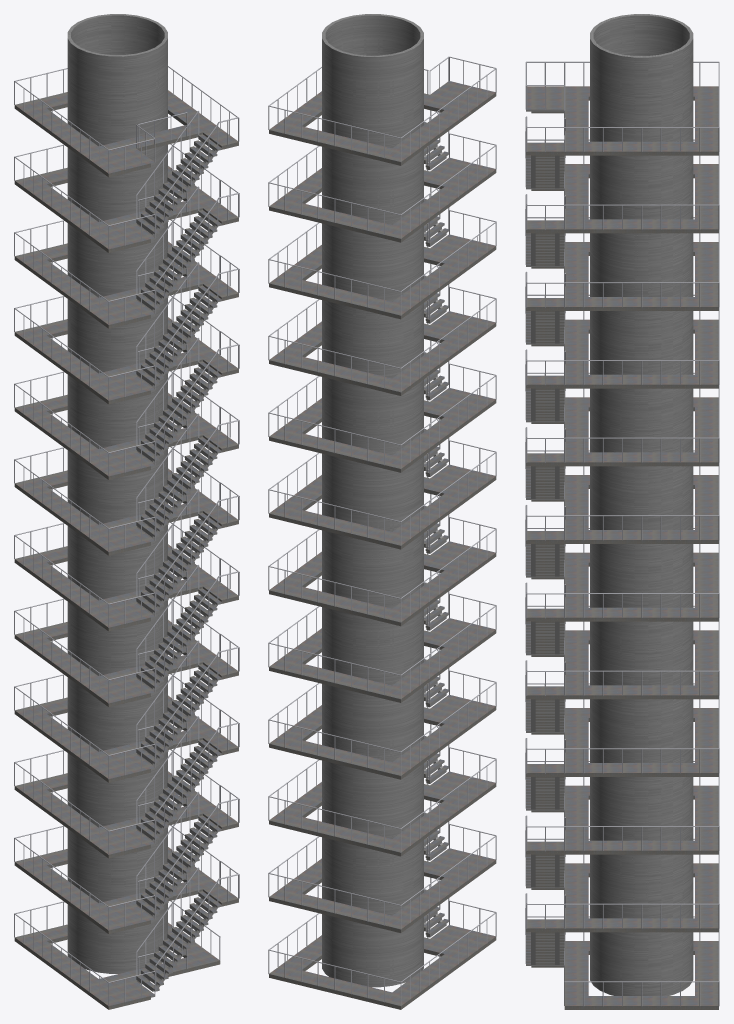
3 renders of one model, left to right at view 1: azimuth 30°, elevation 25°; view 2: azimuth 150°, elevation 25°; view 3: azimuth 270°, elevation 25°, orthographic. The views are drawn at different scales.
Parts seen in each view (by area): view 1: Group_1462, Group_1463, Group_1460, Group_1459; view 2: Group_1463, Group_1462, Group_1460, Group_1459; view 3: Group_1463, Group_1462, Group_1460, Group_1459.
Part boxes in pixels (x1,y1,x2,y2): Group_1462: (14, 90, 238, 1009); Group_1463: (67, 14, 167, 973); Group_1460: (14, 66, 239, 1006); Group_1459: (136, 135, 221, 997); Group_1463: (322, 14, 423, 987); Group_1462: (269, 81, 496, 1009); Group_1460: (268, 56, 496, 1005); Group_1459: (424, 123, 448, 937); Group_1463: (590, 14, 693, 995); Group_1462: (526, 86, 718, 1009); Group_1460: (525, 61, 719, 1006); Group_1459: (526, 109, 564, 965).
Bounding box in the file's own units: 10.23 × 68.17 × 12.76.
3 materials, 3 textured.
